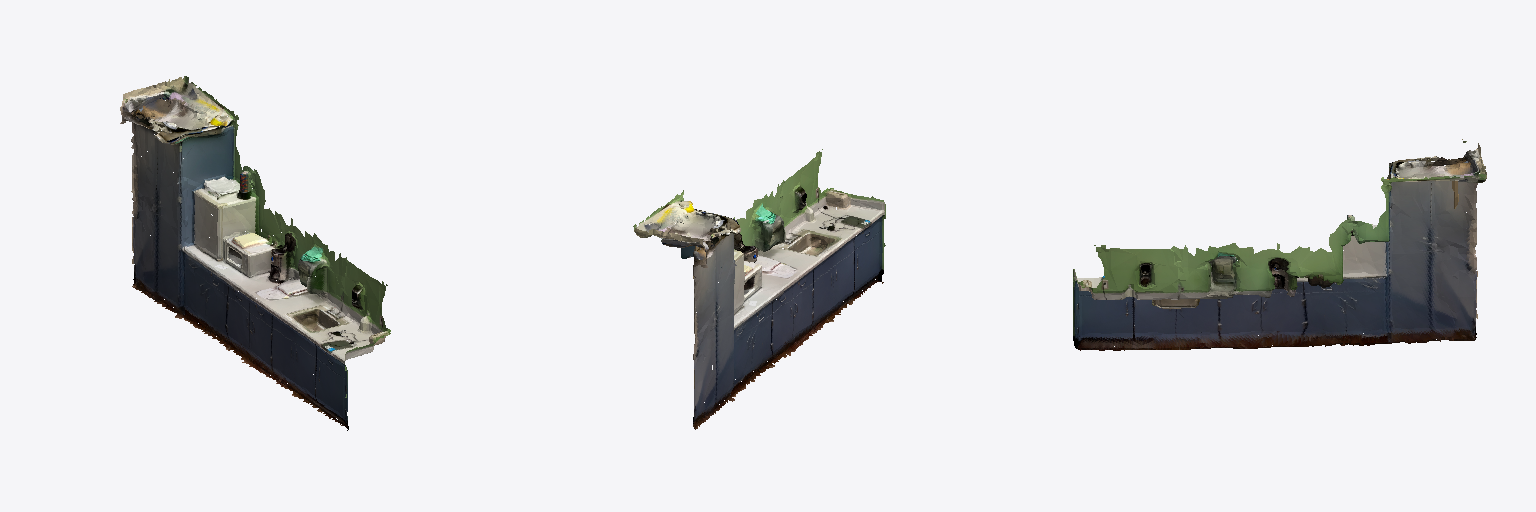
3 renders of one model, left to right at view 1: azimuth 30°, elevation 25°; view 2: azimuth 150°, elevation 25°; view 3: azimuth 270°, elevation 25°, orthographic.
Visible parts, largest first — view 1: poly; view 2: poly; view 3: poly.
Part boxes in pixels (x1,y1,x2,y2): poly: (120,76,390,430); poly: (633,149,885,429); poly: (1073,139,1486,350).
Bounding box in the file's own units: 0.9654 × 2.36 × 4.45.
Materials: 1 (1 with a texture image).